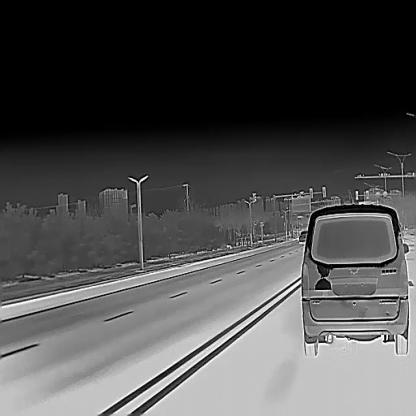car: (300, 202, 409, 356), (297, 229, 307, 242)
